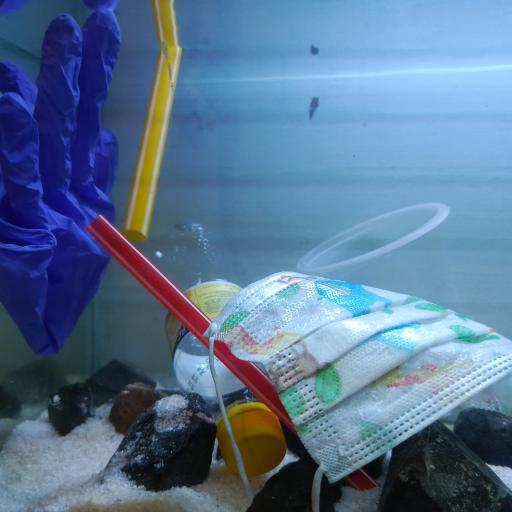glove: (1, 0, 122, 353)
mask: (200, 268, 512, 484)
plastic_bottle: (147, 221, 287, 480)
plastic_cup: (297, 200, 454, 310)
plastic_straw: (85, 212, 375, 495), (124, 0, 181, 243)
